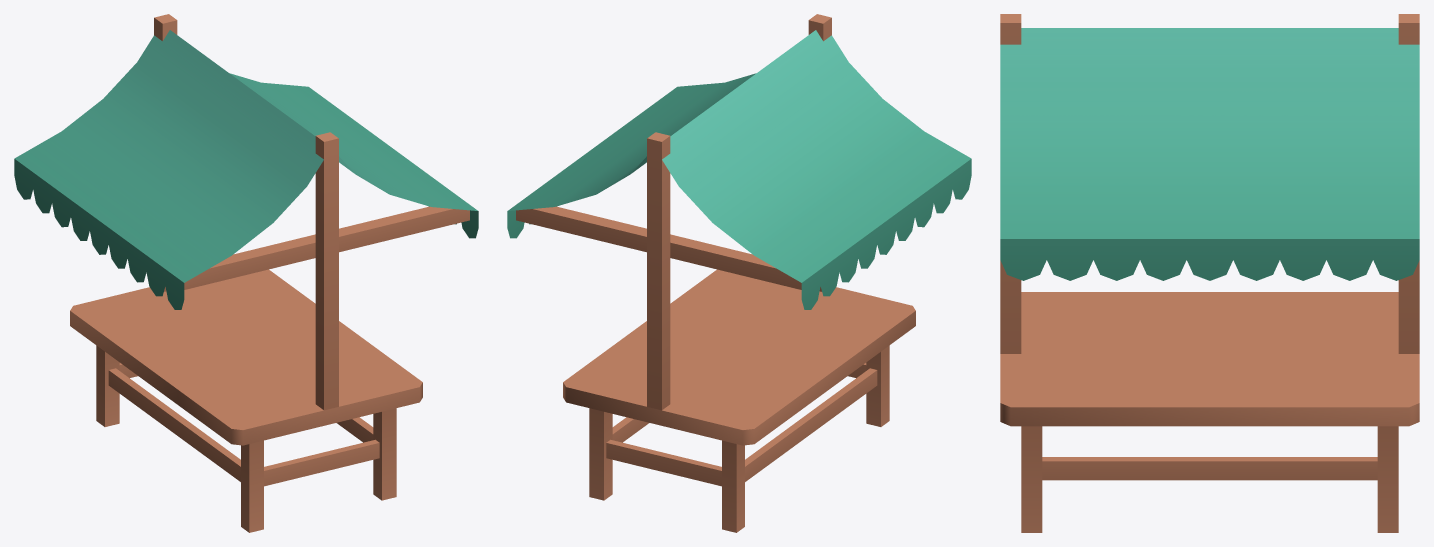
File: stall-green.glb
3 renders of one model, left to right at view 1: azimuth 30°, elevation 25°; view 2: azimuth 150°, elevation 25°; view 3: azimuth 270°, elevation 25°, orthographic. The views are drawn at different scales.
Parts seen in each view (by area): view 1: stall-green; view 2: stall-green; view 3: stall-green.
Part boxes in pixels (box(x1,y1,x2,y2)): stall-green: box(14, 14, 478, 532); stall-green: box(507, 14, 971, 532); stall-green: box(1000, 14, 1419, 532).
Size of the model in its own units: 1 by 1.24 by 1.
1 material, 1 textured.
